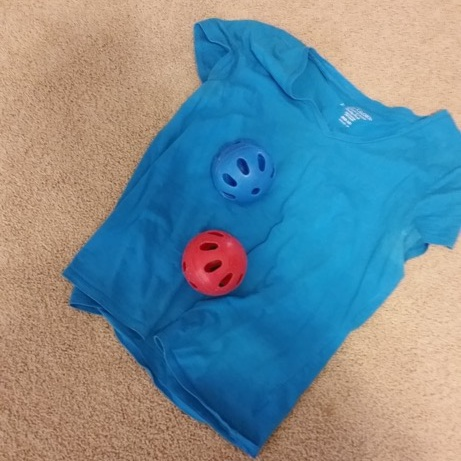blueball: (206, 134, 283, 208)
redball: (174, 224, 252, 300)
